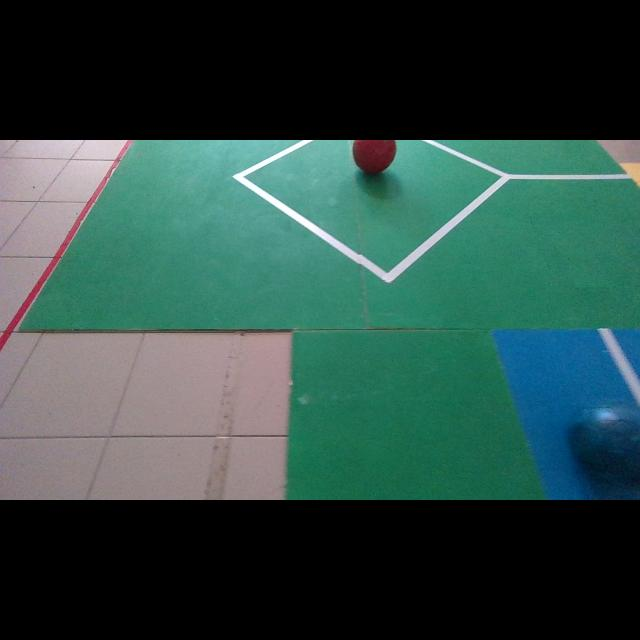B: (568, 404, 640, 499)
R: (352, 140, 396, 173)
